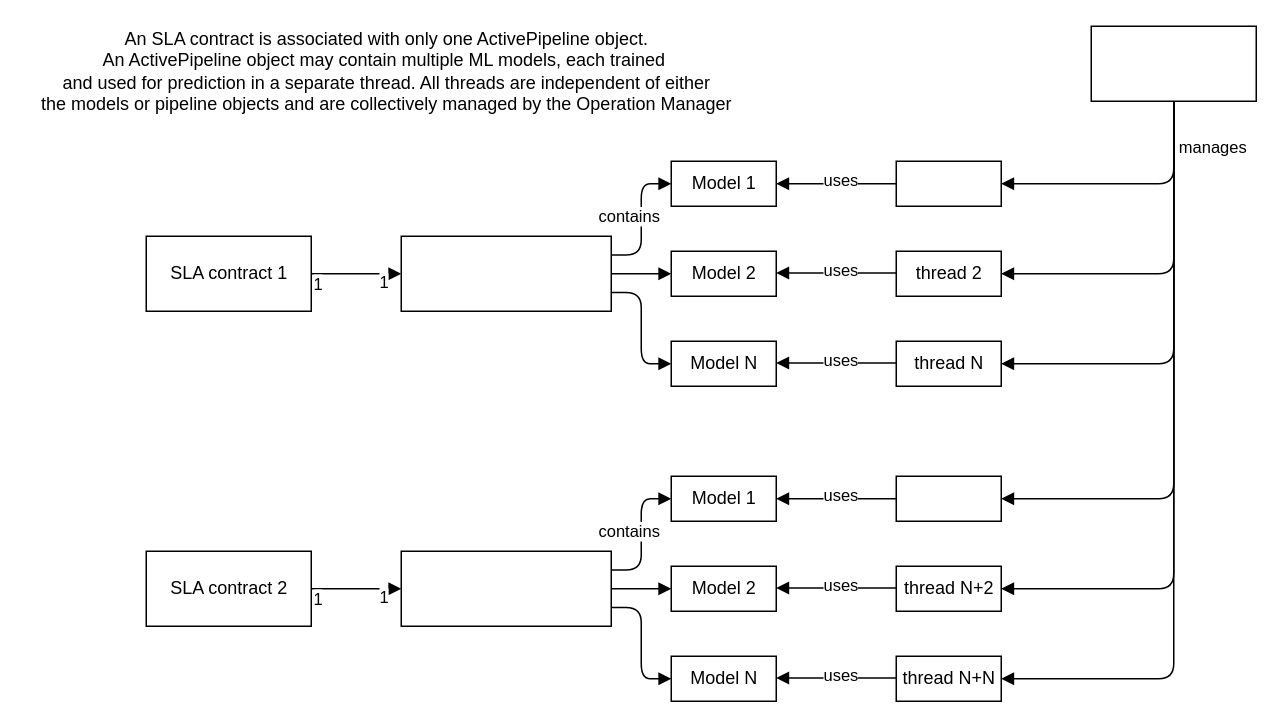
Some shapes in this 1283 by 728 pixel diagram are drawn without their labels. Each missing label, with the centre of its shape:
"ActivePipeline object 1" belongs at (x=505, y=273).
"ActivePipeline object 2" belongs at (x=505, y=588).
"Operation Manager" belongs at (x=1173, y=63).
"thread 1" belongs at (x=948, y=183).
"thread N+1" belongs at (x=948, y=498).
